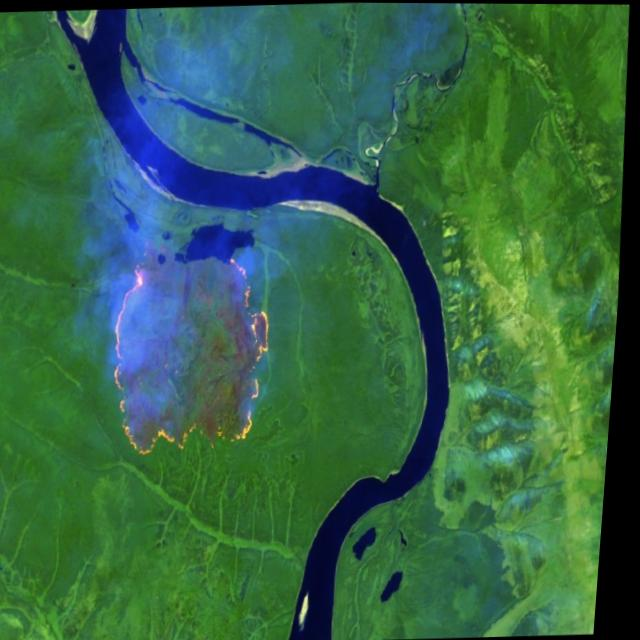fire: (105, 249, 283, 457)
